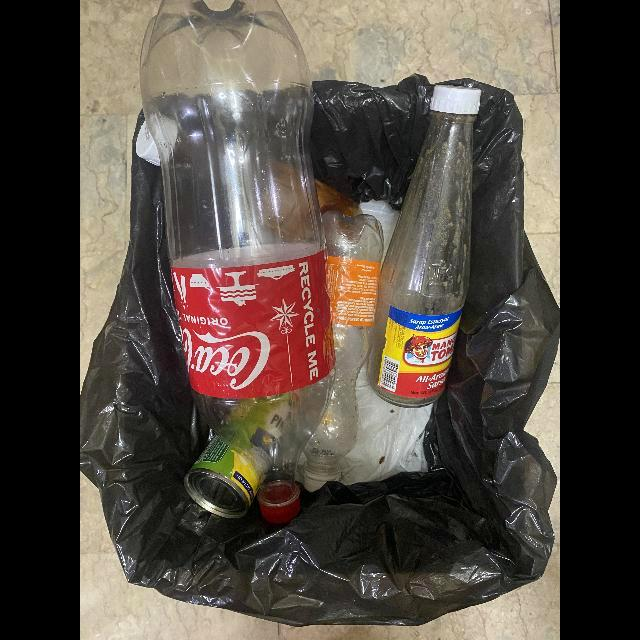aluminum: (183, 435, 260, 519)
glass_bottle: (366, 79, 481, 410)
plastic_bottle: (139, 0, 336, 530), (302, 212, 384, 494)
